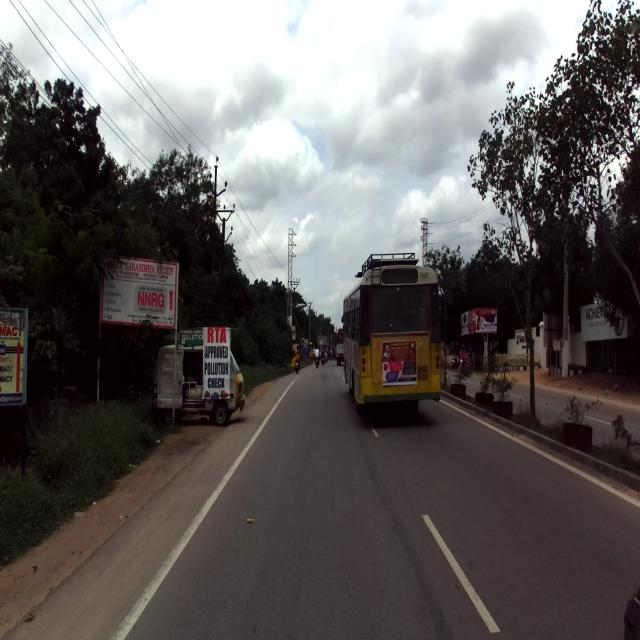Car_Maruti-Suzuki: (153, 342, 245, 428)
bus: (340, 250, 441, 414)
